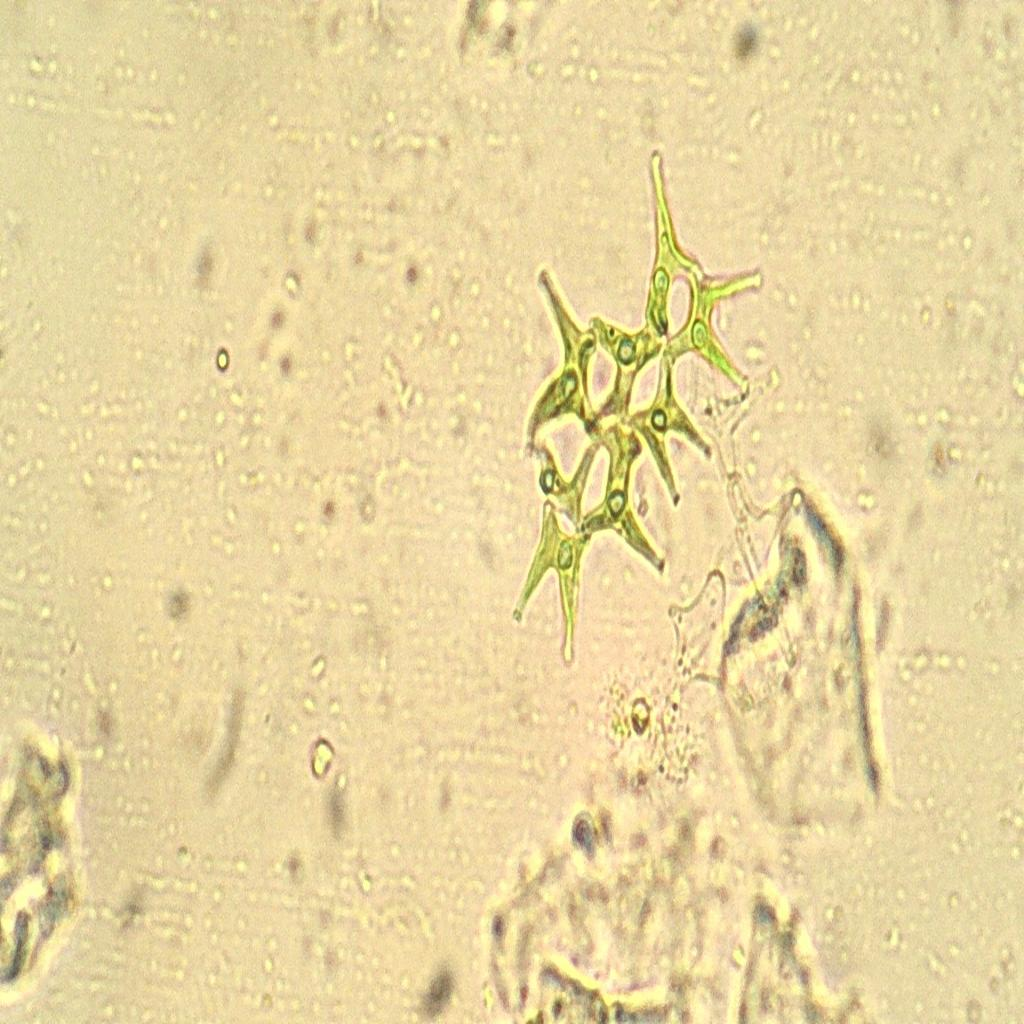Pediastrum_CFI: (486, 137, 771, 674)
